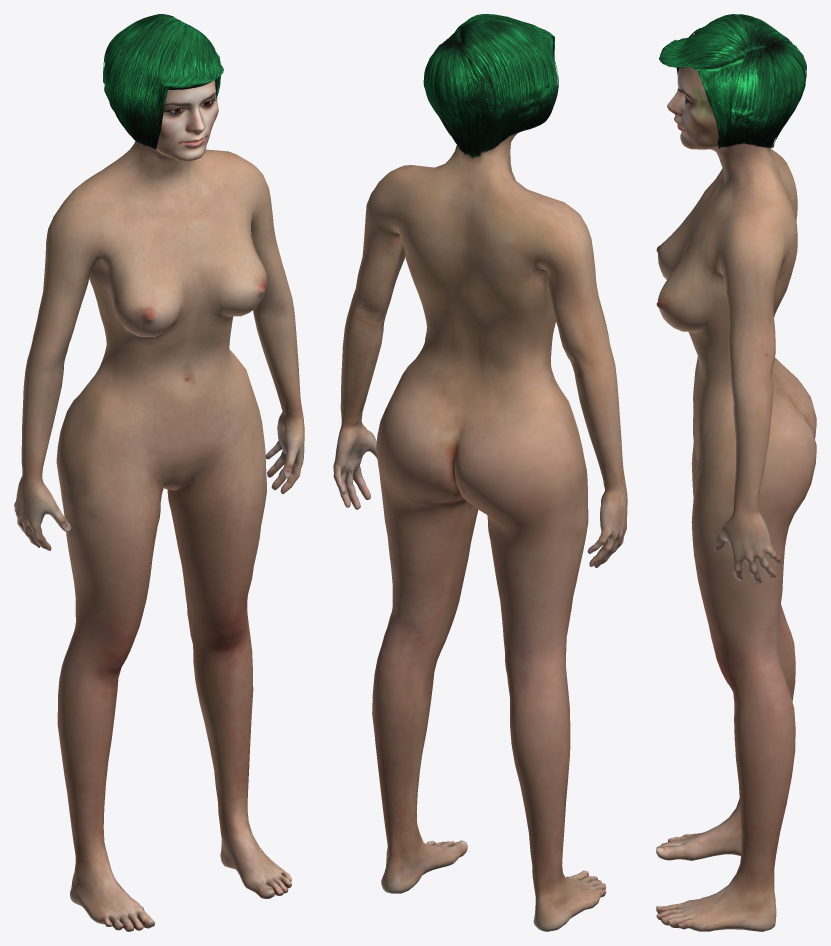
Rendered from figur_stand_u2.glb.
3 views of the same model, side by side, from view 1: azimuth 30°, elevation 25°; view 2: azimuth 150°, elevation 25°; view 3: azimuth 270°, elevation 25° (orthographic).
Visible parts, largest first — view 1: body, hair; view 2: body, hair; view 3: body, hair.
Boxes of the visible parts, box(x1,y1,x2,y2) form: body: box(14, 80, 304, 931); hair: box(103, 14, 223, 149); body: box(333, 132, 627, 931); hair: box(423, 14, 558, 158); body: box(656, 59, 816, 931); hair: box(659, 14, 806, 148).
Bounding box in the file's own units: 0.545 × 1.63 × 0.2731.
5 materials, 5 textured.
